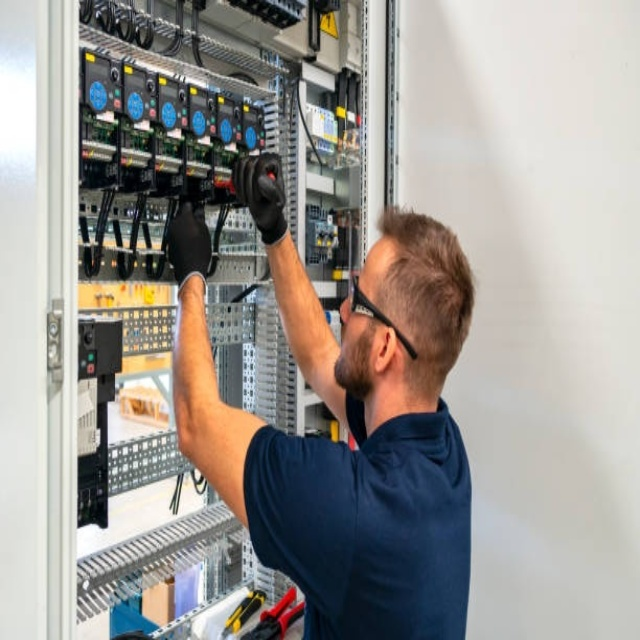Gafas: (349, 273, 418, 361)
Guantes: (233, 153, 287, 246), (165, 200, 212, 288)
Sin_mascara: (326, 304, 356, 375)
